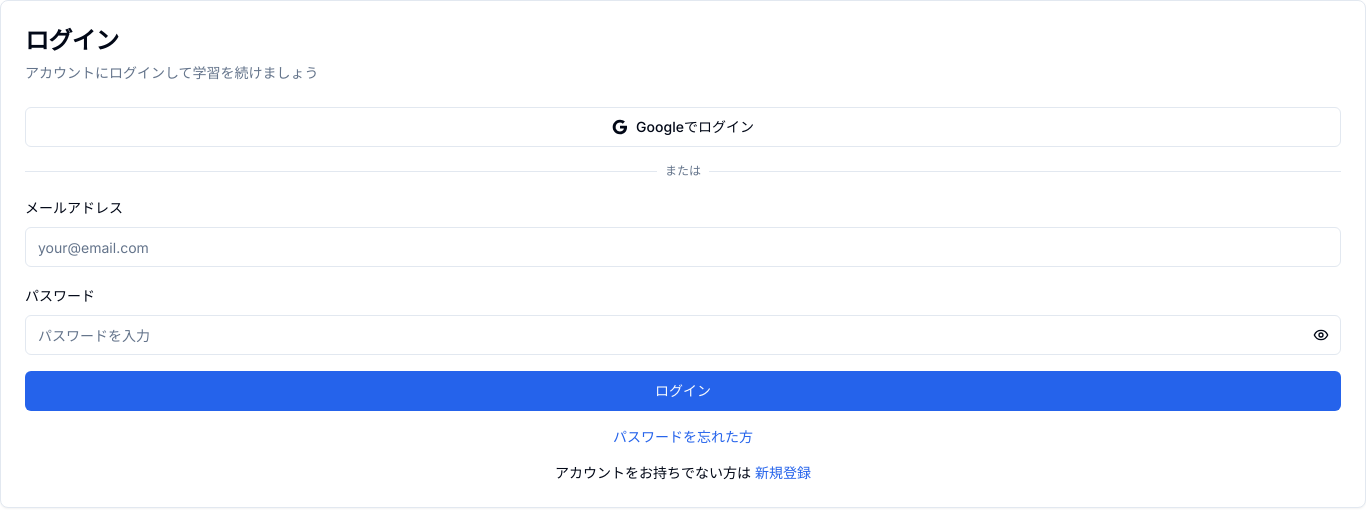
Test: LoginForm › disables form elements during loading
The width and height of the screenshot is (1366, 525).
In the field labelled "メールアドレス": coordinates (683, 247) [25,227,1341,267], type "test@example.com"
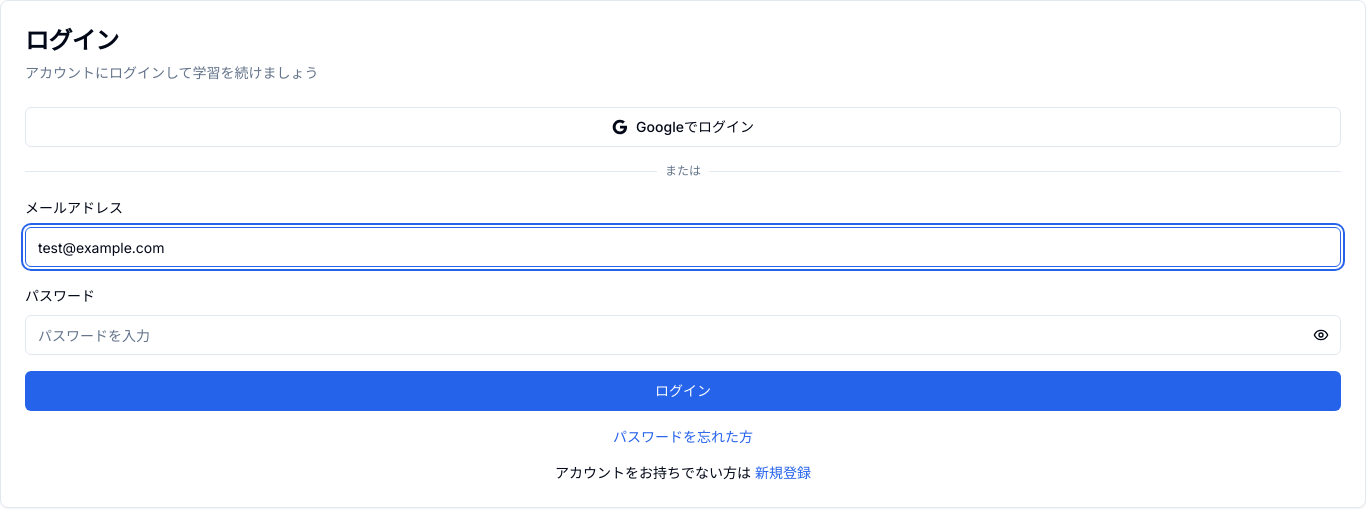
In the password field labelled "パスワード": coordinates (683, 335) [25,315,1341,355], type "password123"
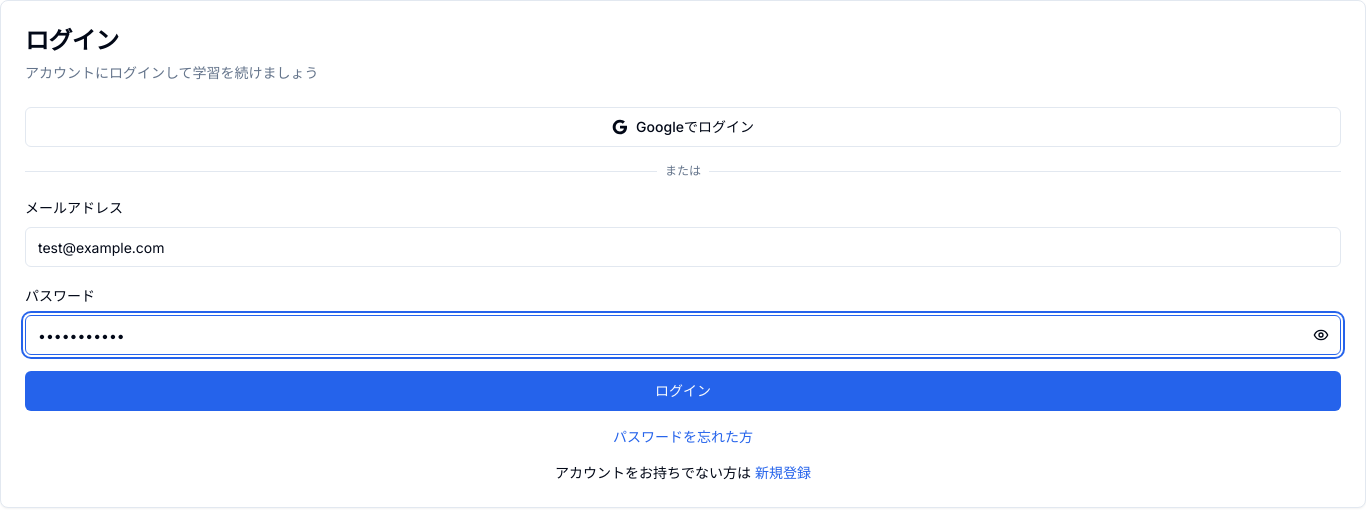
Click the button "ログイン": coordinates (683, 391) [25,371,1341,411]
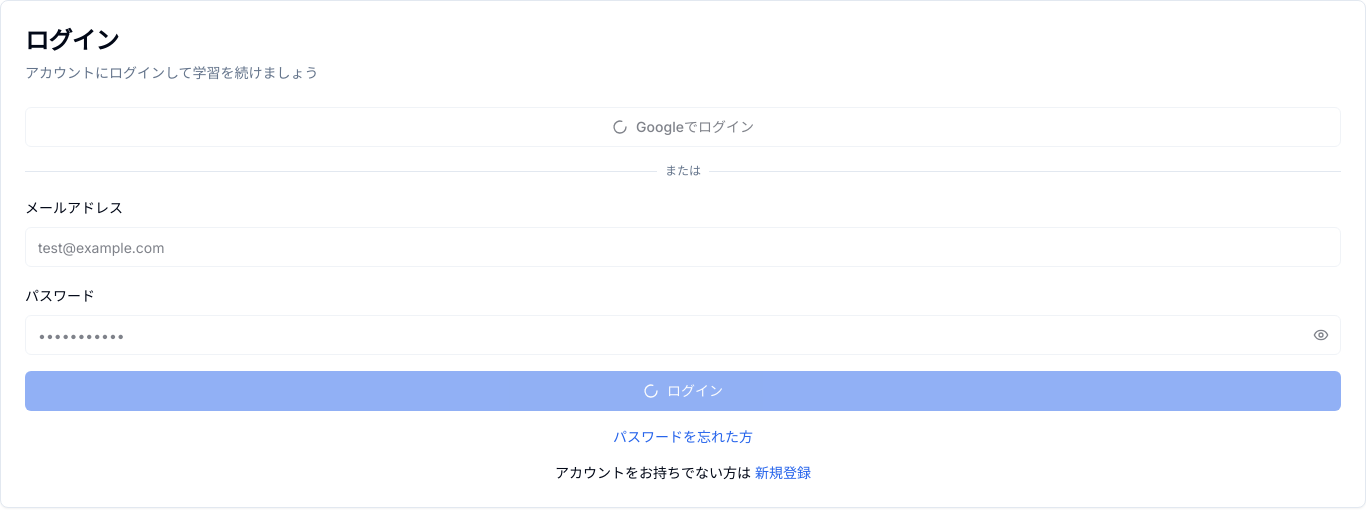
Expected: the field labelled "メールアドレス" is disabled, [25,227,1341,267]
Expected: the password field labelled "パスワード" is disabled, [25,315,1341,355]
Expected: the button "ログイン" is disabled, [25,371,1341,411]
